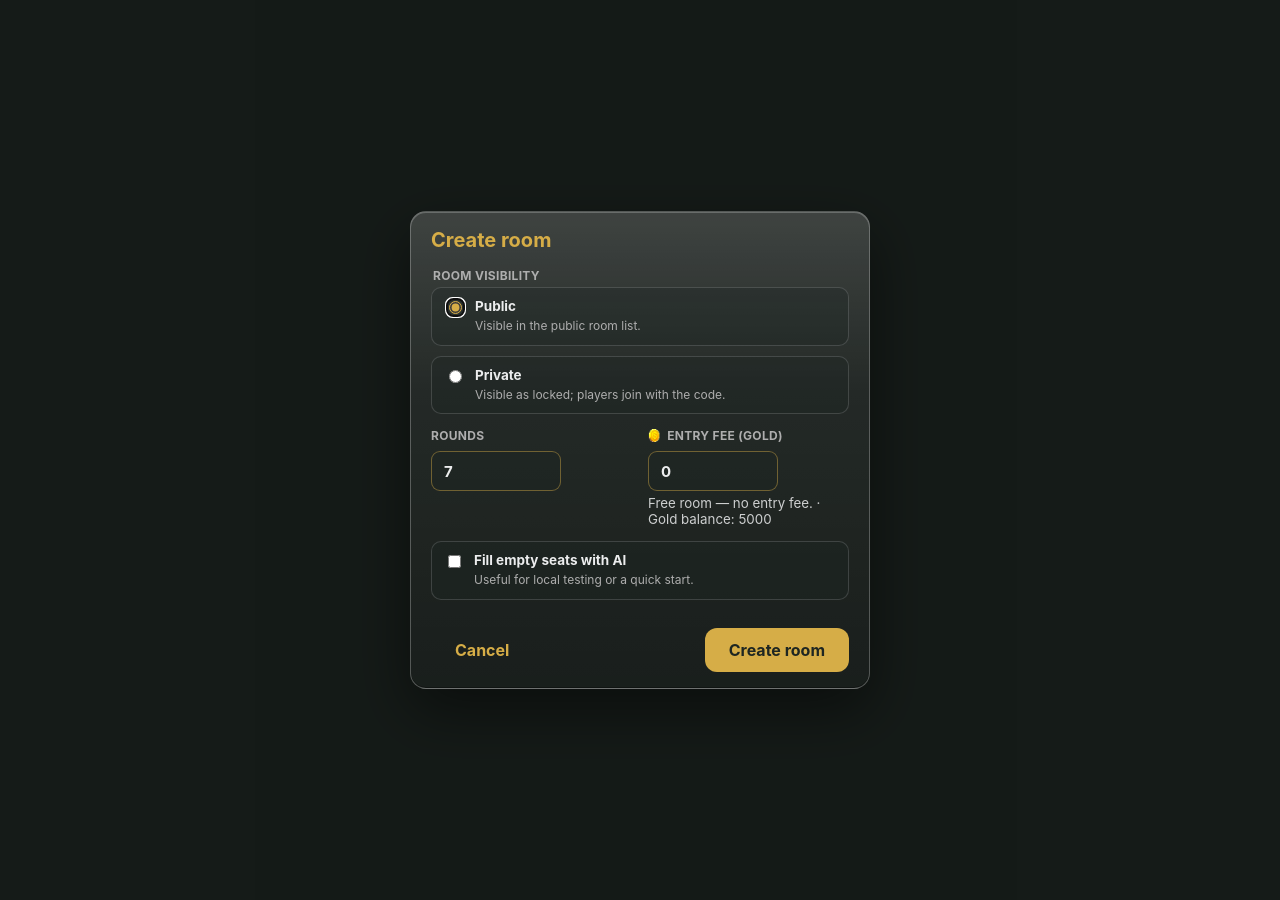
it: CreateRoomDialog entry-fee field (Phase 4) › normalizes an out-of-range rounds value to the max on blur
Replace the text in the number field labelled "Rounds" with "999" at (496,471), box [431, 451, 561, 491]
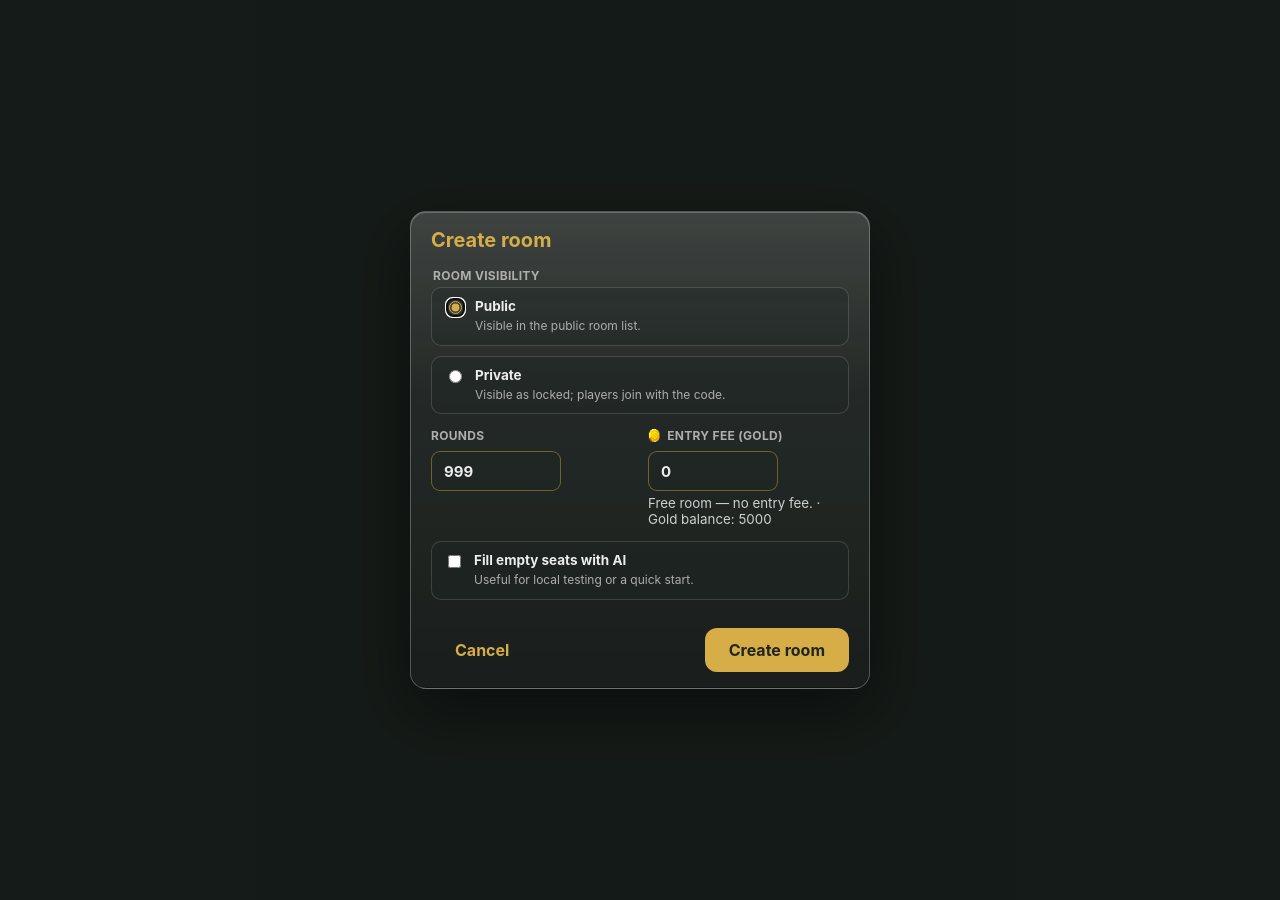
Leave the number field labelled "Rounds", box [431, 451, 561, 491]
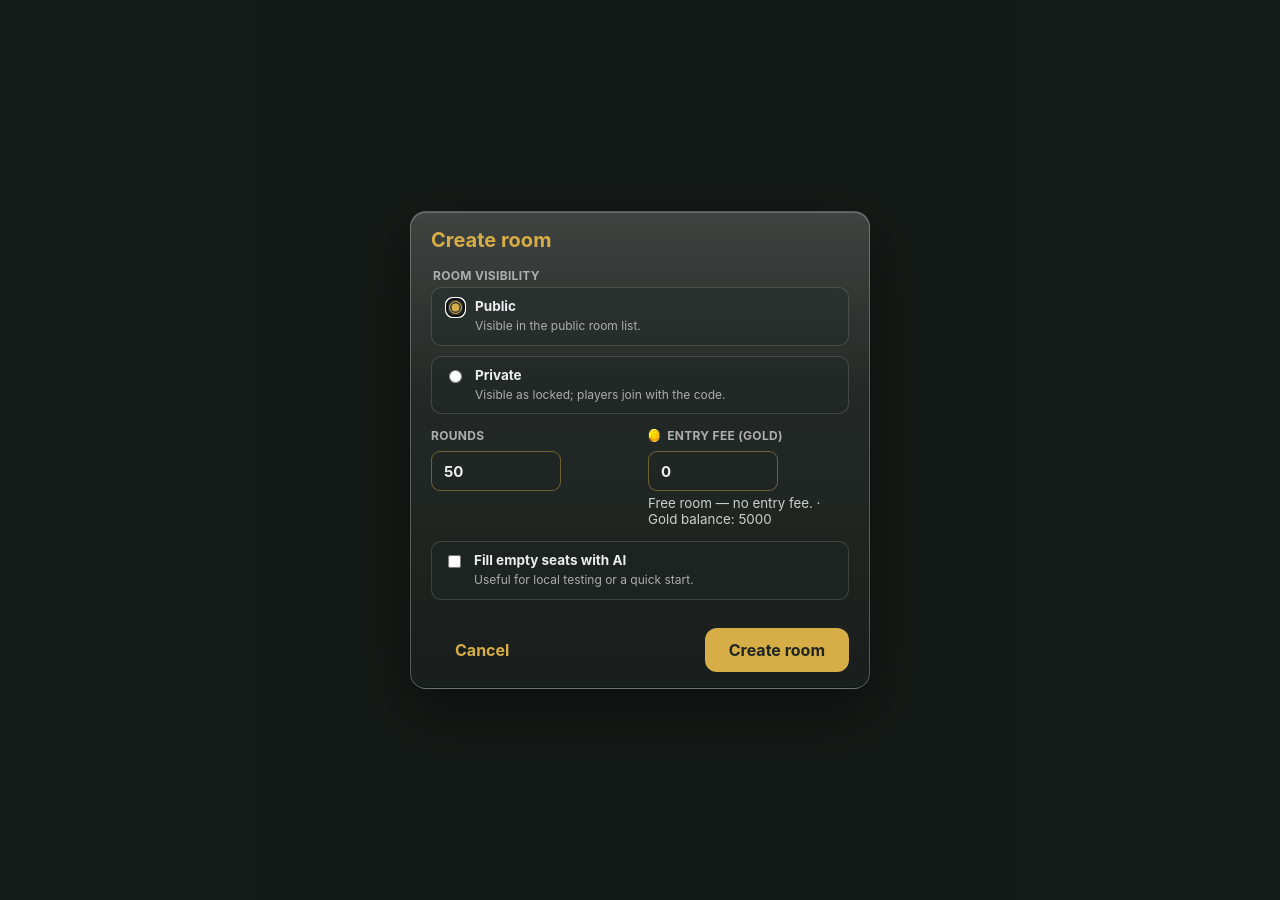
Now the number field labelled "Rounds" holds "50", box [431, 451, 561, 491]
